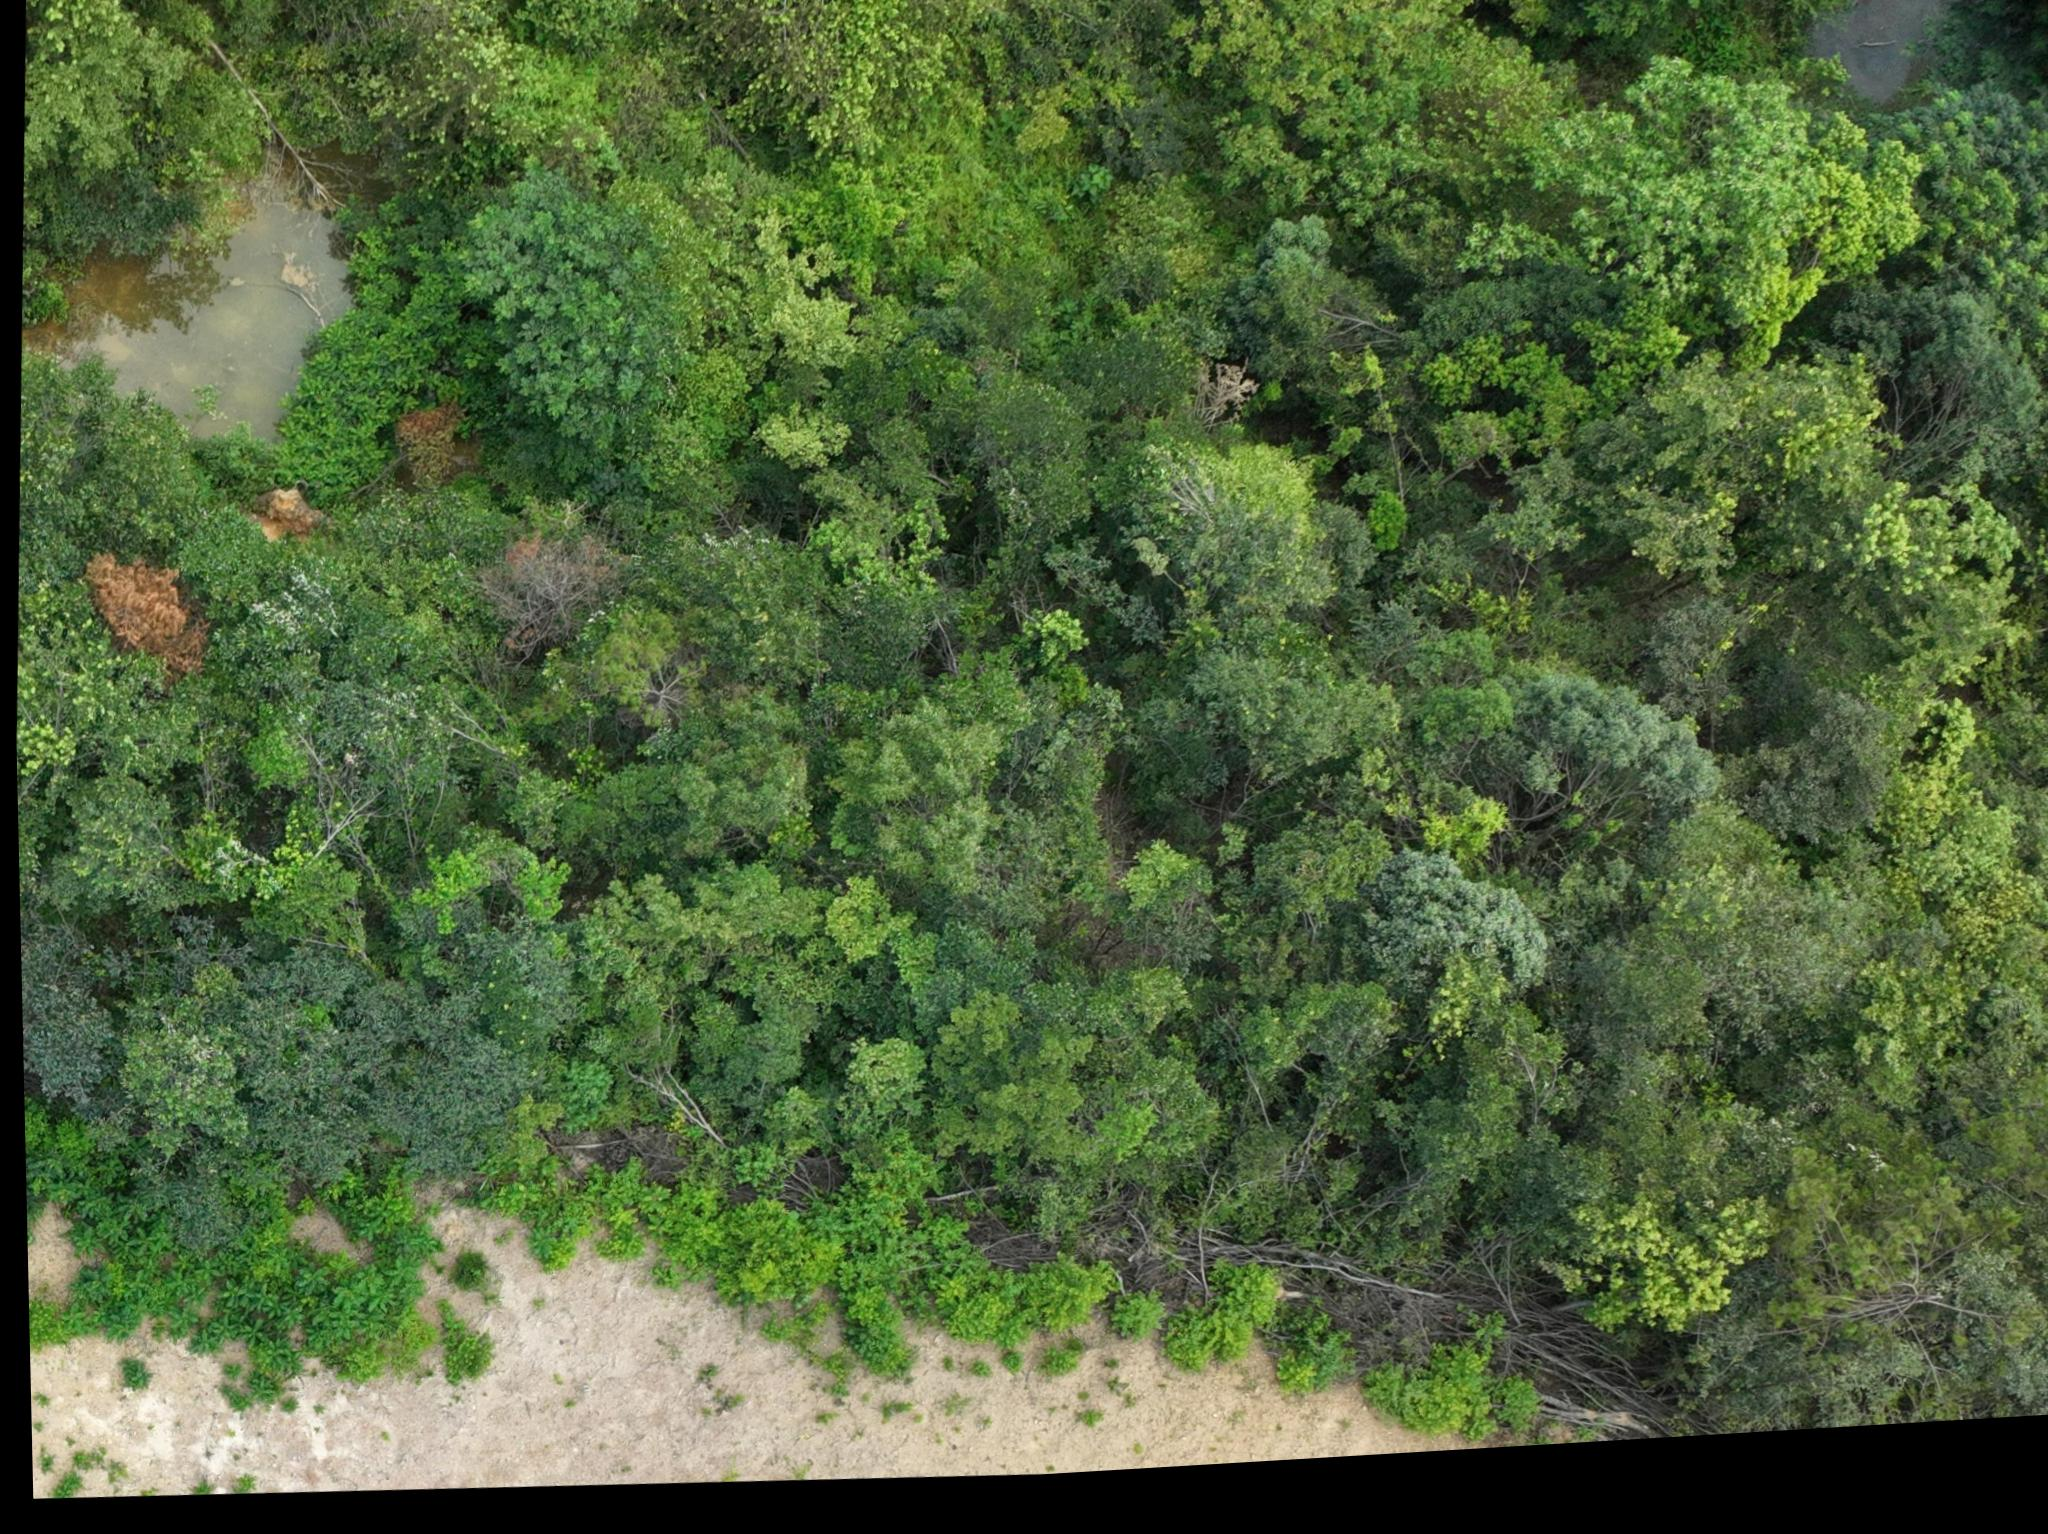dead: (79, 535, 219, 690), (487, 530, 614, 667)
heavy: (392, 404, 472, 498)
